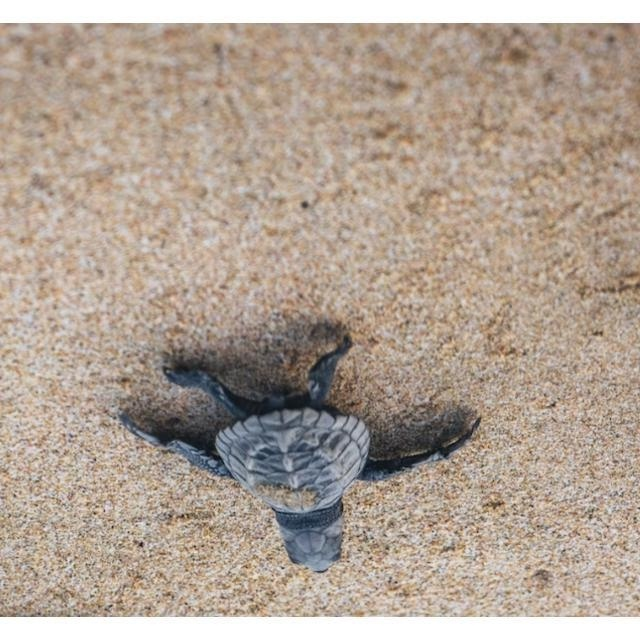turtle: (118, 335, 483, 575)
